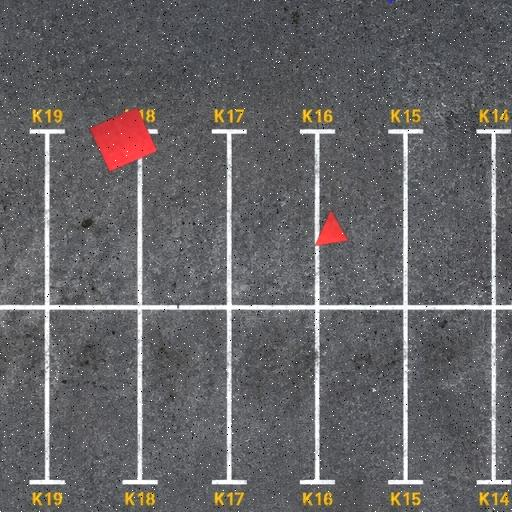RED_SQUARE: (89, 106, 158, 173)
